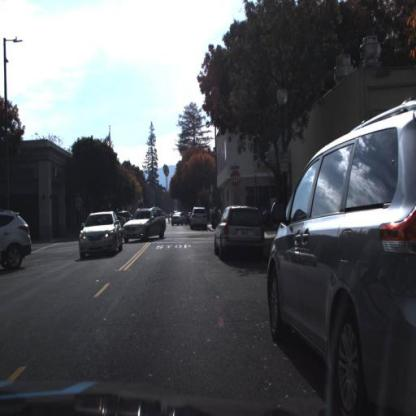car: (262, 87, 415, 414), (265, 93, 415, 414), (211, 201, 266, 265), (74, 208, 124, 263), (0, 206, 32, 269), (121, 205, 168, 243), (187, 203, 210, 234)
